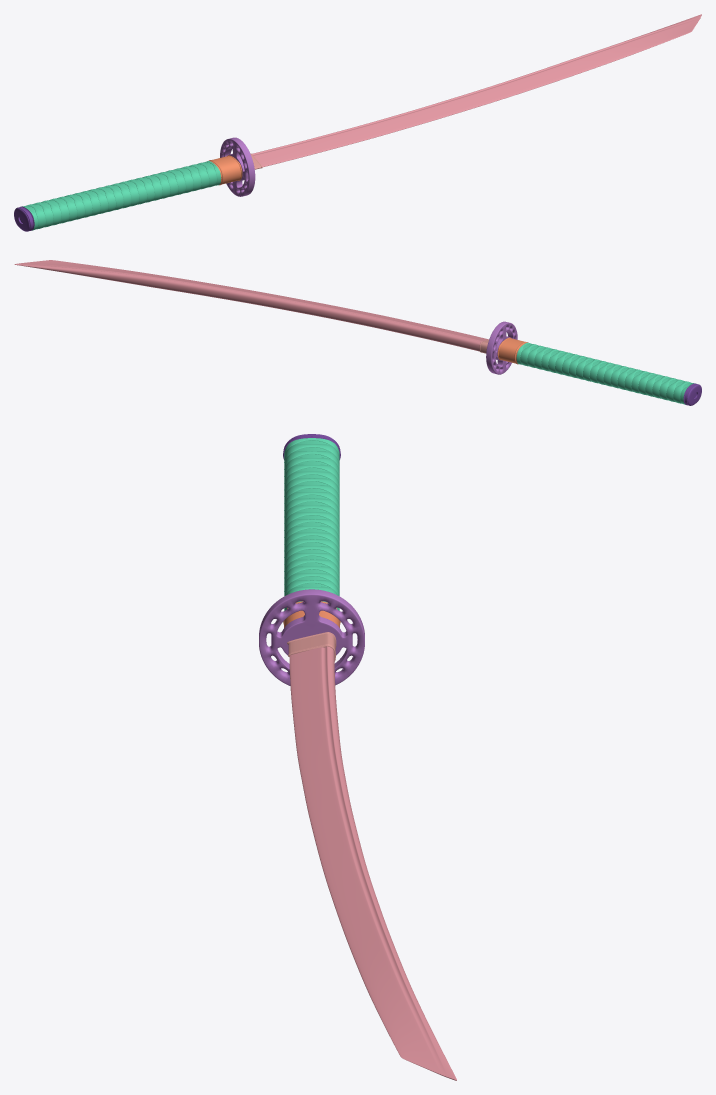
3 views of the same model, one above another, from view 1: azimuth 30°, elevation 25°; view 2: azimuth 150°, elevation 25°; view 3: azimuth 270°, elevation 25° (orthographic). The views are drawn at different scales.
Visible parts, largest first — view 1: Object_16, split_parent_0, Object_8, Object_12, Object_6; view 2: Object_16, split_parent_0, Object_8, Object_12, Object_6; view 3: Object_16, split_parent_0, Object_8.
Part boxes in pixels (x1,y1,x2,y2): Object_16: [252, 14, 701, 166]; split_parent_0: [22, 161, 221, 230]; Object_8: [220, 137, 255, 196]; Object_12: [208, 155, 242, 185]; Object_6: [14, 206, 34, 231]; Object_16: [14, 260, 488, 351]; split_parent_0: [516, 342, 695, 404]; Object_8: [486, 321, 517, 374]; Object_12: [497, 337, 527, 364]; Object_6: [683, 383, 701, 405]; Object_16: [289, 646, 456, 1080]; split_parent_0: [284, 438, 339, 610]; Object_8: [259, 589, 364, 685].
Bounding box in the file's own units: 1 × 0.0713 × 0.1331.
